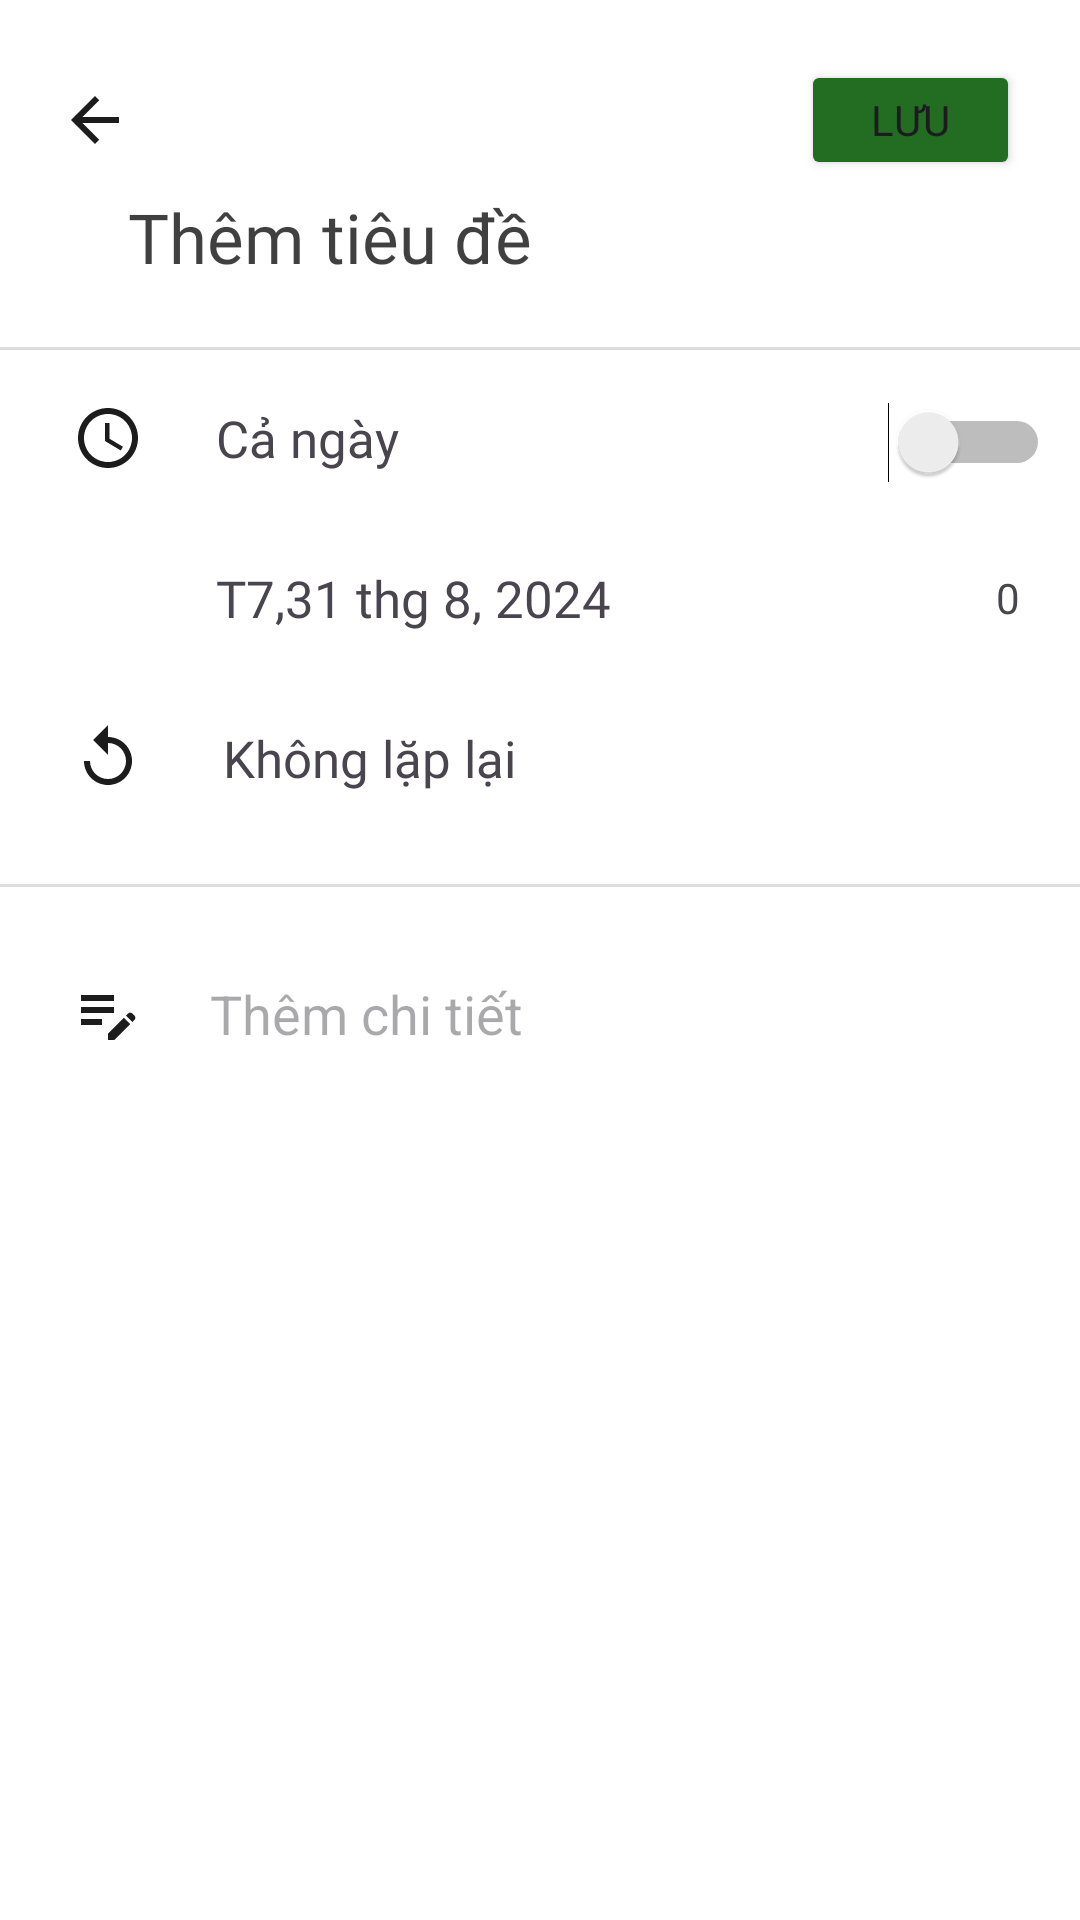

Icon bounding boxes for this 1080 × 1920 phone screenshot, format (x1, y1, x2, y2):
arrow back: (71, 96, 119, 144)
